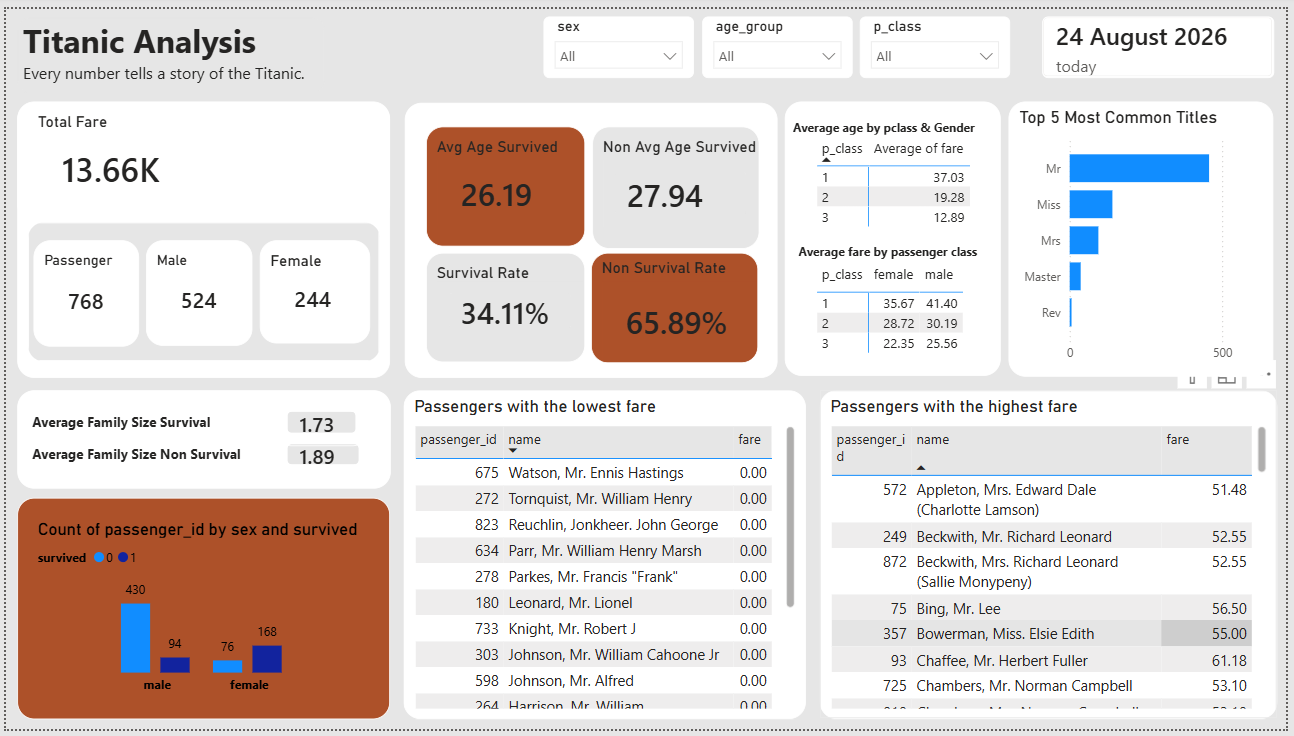

Layout of this report page (visuals, bound fields, positions):
{"tool":"powerbi","page":{"name":"Page 2","canvas":[1280,720],"ordinal":0},"visuals":[{"type":"tableEx","title":"Passengers with the lowest fare","fields":{"Values":["new_titanic.passenger_id","new_titanic.name","new_titanic.fare"]},"box":[397.5,381.2,402.5,328.8],"z":0},{"type":"tableEx","title":"Passengers with the highest fare","fields":{"Values":["new_titanic.passenger_id","new_titanic.name","new_titanic.fare"]},"box":[813.8,381.2,457.5,328.8],"z":1000},{"type":"clusteredBarChart","title":"Top 5 Most Common Titles","fields":{"Y":["CountNonNull(new_titanic.passenger_id)"],"Category":["new_titanic.title"]},"box":[1003,93,265,275],"z":2000},{"type":"slicer","fields":{"Values":["new_titanic.sex"]},"box":[537.5,7.2,150,61.2],"z":3000},{"type":"slicer","fields":{"Values":["new_titanic.age_group"]},"box":[696.2,7.2,150,61.2],"z":4000},{"type":"slicer","fields":{"Values":["new_titanic.p_class"]},"box":[853.8,7.2,150,61.2],"z":5000},{"type":"cardVisual","fields":{"Data":["new_titanic.today"]},"box":[1036.2,6.9,231.9,61.2],"z":6000},{"type":"textbox","box":[11.2,8.8,307.5,75],"z":7000},{"type":"shape","box":[11,381.5,373.2,98.8],"z":8000},{"type":"clusteredColumnChart","fields":{"Category":["new_titanic.sex"],"Y":["CountNonNull(new_titanic.passenger_id)"],"Series":["new_titanic.survived"]},"box":[11.2,488.8,372.5,221.2],"z":9000},{"type":"cardVisual","fields":{"Data":["Avg(new_titanic.family_size)"]},"box":[268.3,422.8,97.8,46.7],"z":10000},{"type":"cardVisual","fields":{"Data":["Avg(new_titanic.family_size)"]},"box":[268.2,390,94.1,47.1],"z":11000},{"type":"textbox","box":[20.7,399.3,226,31.3],"z":12000},{"type":"textbox","box":[20.7,430.7,232.7,31.3],"z":13000},{"type":"shape","box":[11.2,93.8,372.5,275],"z":14000},{"type":"cardVisual","title":"Total Fare","fields":{"Data":["Sum(new_titanic.fare)"]},"box":[11.2,92.5,372.5,120],"z":15000},{"type":"shape","box":[20.8,212.5,353.3,140.8],"z":16000},{"type":"cardVisual","title":"Passenger","fields":{"Data":["CountNonNull(new_titanic.passenger_id)"]},"box":[28.1,231,105.7,106.7],"z":17000},{"type":"cardVisual","title":"Male","fields":{"Data":["CountNonNull(new_titanic.passenger_id)"]},"box":[140,231.4,106.7,105.7],"z":18000},{"type":"cardVisual","title":"Female","fields":{"Data":["CountNonNull(new_titanic.passenger_id)"]},"box":[253.3,231.4,110,102.9],"z":19000},{"type":"shape","box":[398.8,93.8,372.5,275],"z":20000},{"type":"cardVisual","title":"Avg Age Survived","fields":{"Data":["Avg(new_titanic.age)"]},"box":[420.2,117.9,159,119.8],"z":21000},{"type":"cardVisual","title":"Non Avg Age Survived","fields":{"Data":["Avg(new_titanic.age)"]},"box":[585.7,117.4,167.5,122.3],"z":22000},{"type":"cardVisual","title":"Survival Rate","fields":{"Data":["new_titanic.survival_rate"]},"box":[420,243.5,158.8,109.4],"z":23000},{"type":"cardVisual","title":"Non Survival Rate","fields":{"Data":["new_titanic.non_survival_rate"]},"box":[585.3,243.5,167.1,110],"z":24000},{"type":"shape","box":[779.2,93.1,216.2,274.6],"z":25000},{"type":"pivotTable","fields":{"Rows":["new_titanic.p_class"],"Columns":["new_titanic.sex"],"Values":["Avg(new_titanic.age)"]},"box":[800,243.8,181.5,120.8],"z":26000},{"type":"pivotTable","fields":{"Rows":["new_titanic.p_class"],"Values":["Avg(new_titanic.fare)"]},"box":[800,117.7,181.5,120],"z":27000},{"type":"textbox","box":[781.6,102.8,210.8,29.6],"z":28000},{"type":"textbox","box":[787.2,227.6,199.6,29.6],"z":29000}]}

Visuals, with their boxes in screenshot pixels (x1, y1, x2, y2), scaled from the page's 1280x720 canvas onto the 1294x736 screenshot:
"Passengers with the lowest fare" tableEx: crop(402, 390, 809, 726)
"Passengers with the highest fare" tableEx: crop(823, 390, 1285, 726)
"Top 5 Most Common Titles" clusteredBarChart: crop(1014, 95, 1282, 376)
slicer - new_titanic.sex: crop(543, 7, 695, 70)
slicer - new_titanic.age_group: crop(704, 7, 855, 70)
slicer - new_titanic.p_class: crop(863, 7, 1015, 70)
cardVisual - new_titanic.today: crop(1048, 7, 1282, 70)
textbox: crop(11, 9, 322, 86)
shape: crop(11, 390, 388, 491)
clusteredColumnChart - new_titanic.sex x CountNonNull(new_titanic.passenger_id): crop(11, 500, 388, 726)
cardVisual - Avg(new_titanic.family_size): crop(271, 432, 370, 480)
cardVisual - Avg(new_titanic.family_size): crop(271, 399, 366, 447)
textbox: crop(21, 408, 249, 440)
textbox: crop(21, 440, 256, 472)
shape: crop(11, 96, 388, 377)
"Total Fare" cardVisual: crop(11, 95, 388, 217)
shape: crop(21, 217, 378, 361)
"Passenger" cardVisual: crop(28, 236, 135, 345)
"Male" cardVisual: crop(142, 237, 249, 345)
"Female" cardVisual: crop(256, 237, 367, 342)
shape: crop(403, 96, 780, 377)
"Avg Age Survived" cardVisual: crop(425, 121, 586, 243)
"Non Avg Age Survived" cardVisual: crop(592, 120, 761, 245)
"Survival Rate" cardVisual: crop(425, 249, 585, 361)
"Non Survival Rate" cardVisual: crop(592, 249, 761, 361)
shape: crop(788, 95, 1006, 376)
pivotTable - new_titanic.p_class x new_titanic.sex: crop(809, 249, 992, 373)
pivotTable - new_titanic.p_class x Avg(new_titanic.fare): crop(809, 120, 992, 243)
textbox: crop(790, 105, 1003, 135)
textbox: crop(796, 233, 998, 263)
